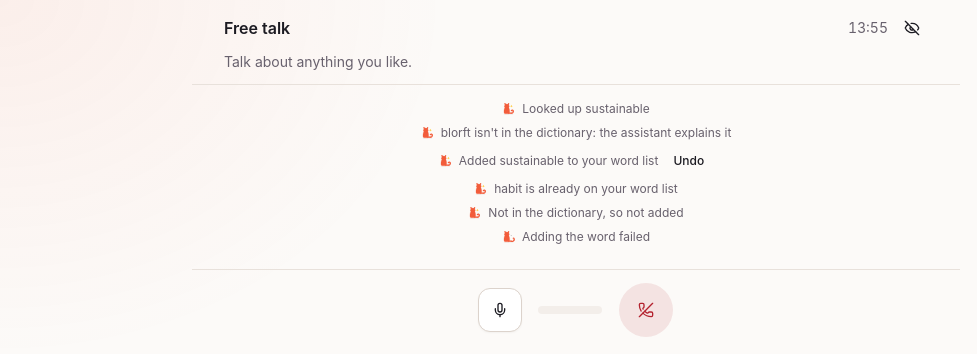
Scenario: RealtimeCallPage › shows what the assistant did, and a word just added can be taken off
Check: the text "Looked up sustainable" is shown, box left=522, top=101, right=650, bottom=117
Check: the text "blorft isn't in the dictionary: the assistant explains it" is shown, box left=441, top=125, right=731, bottom=141
Click the button "Undo".
click(689, 161)  # box left=664, top=149, right=713, bottom=173
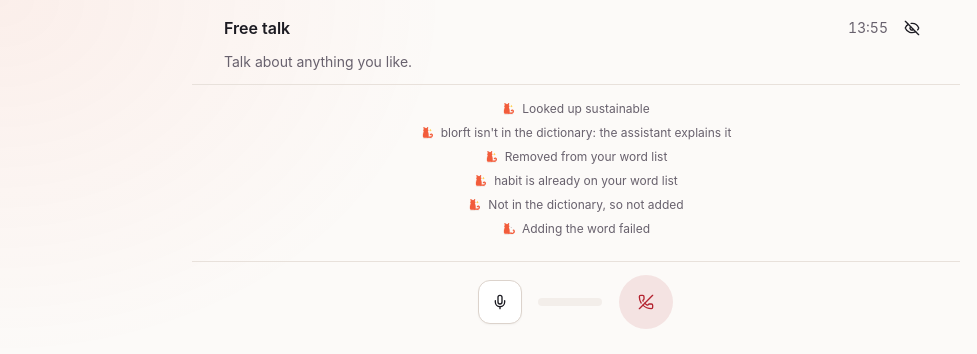
Check: the text "Removed from your word list" is shown, box left=505, top=149, right=667, bottom=165
Check: the button "Undo" is gone
